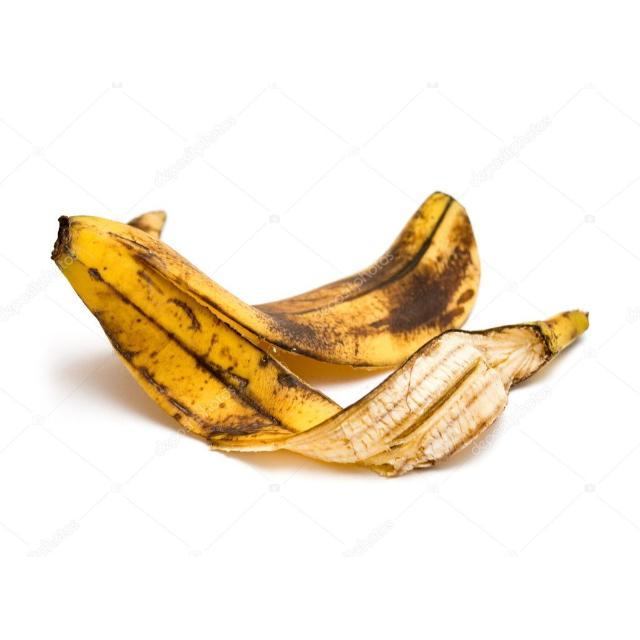organic: (50, 190, 592, 480)
